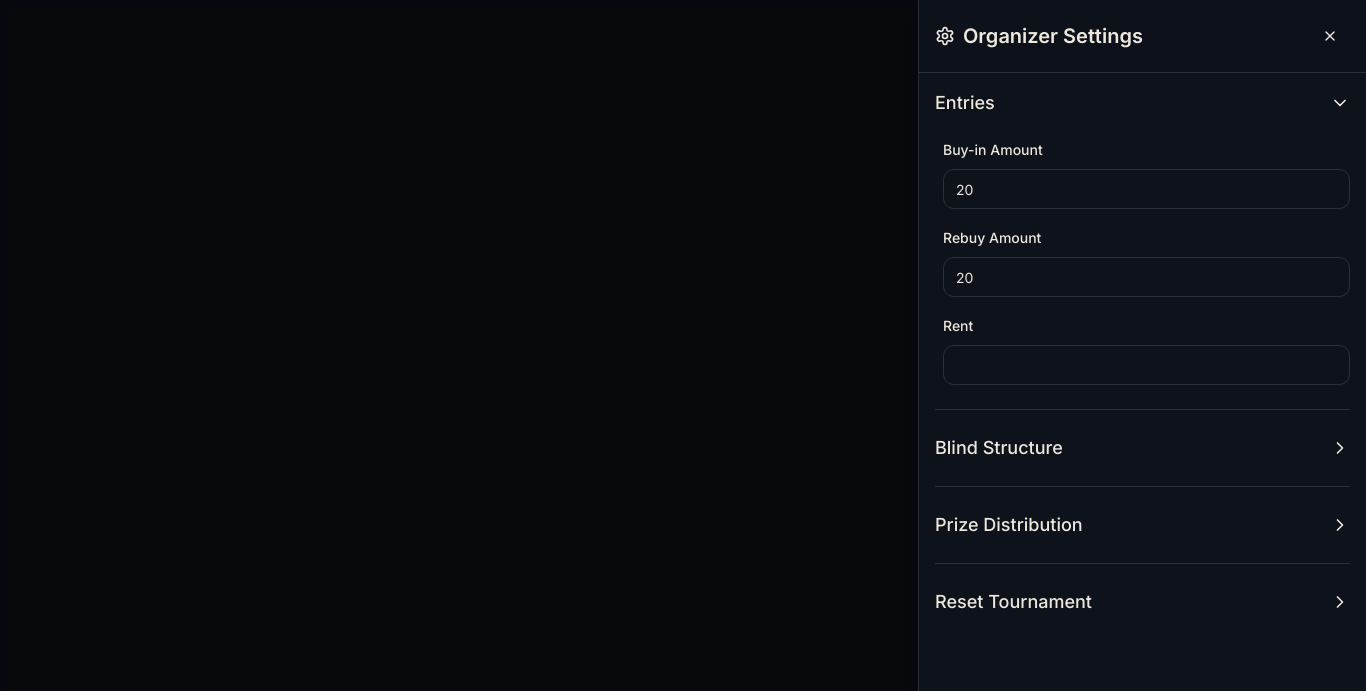
Test: OrganizerPanel duration editing › shows warning when duration is empty
Click the button "Blind Structure" at (999, 448), box [935,434,1350,462]
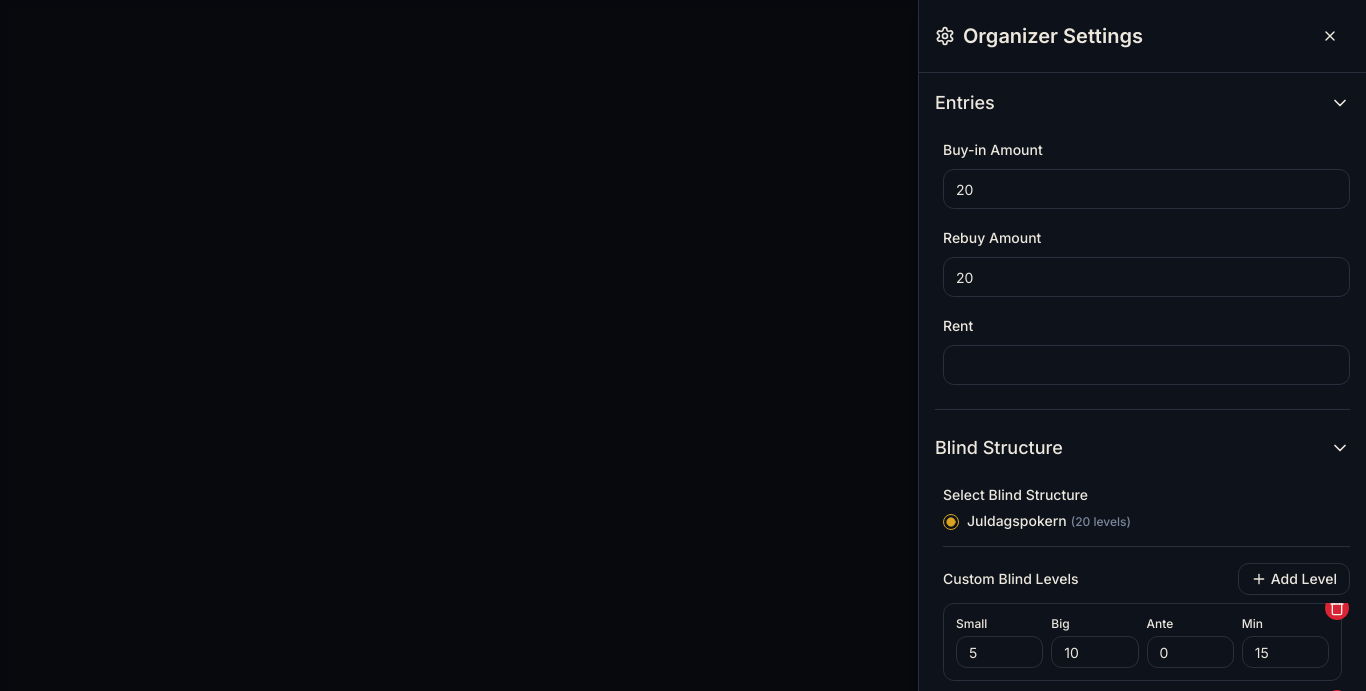
Clear the field with id "duration-1" at (1285, 652), box [1242,636,1329,668]
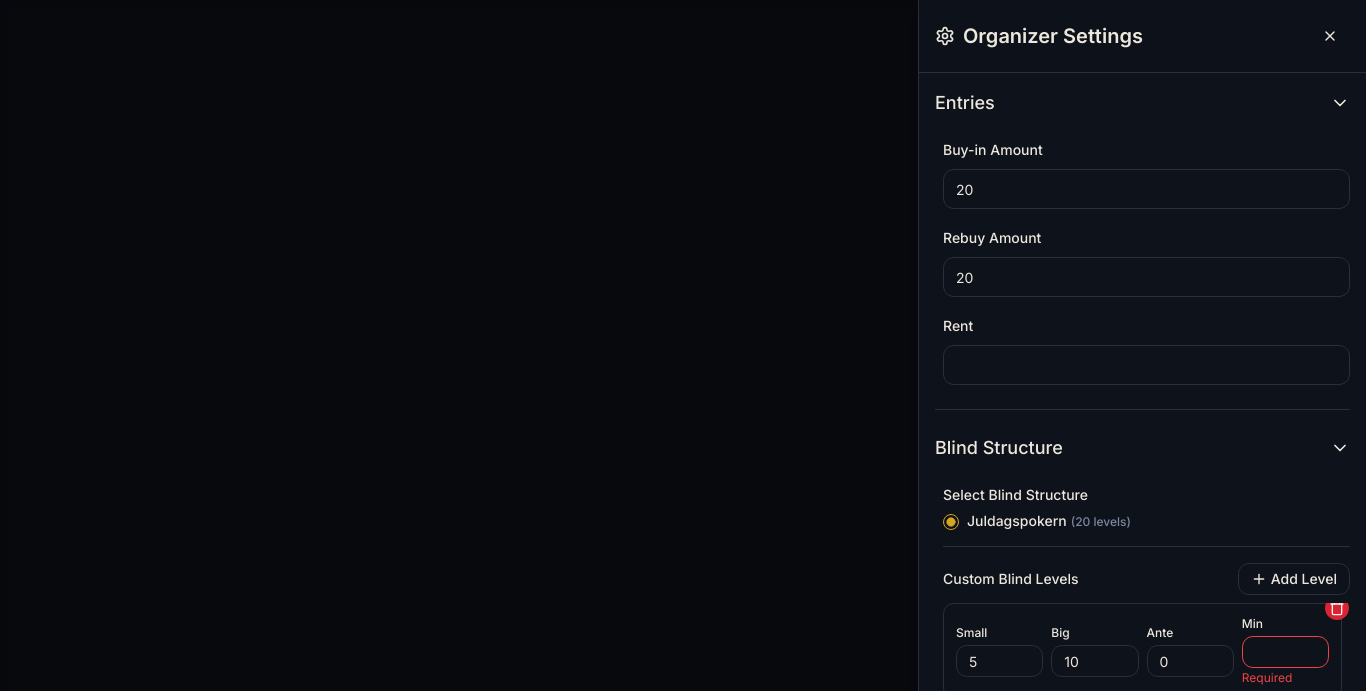
Check: the text "Required" is shown, box [1242,670,1292,685]
